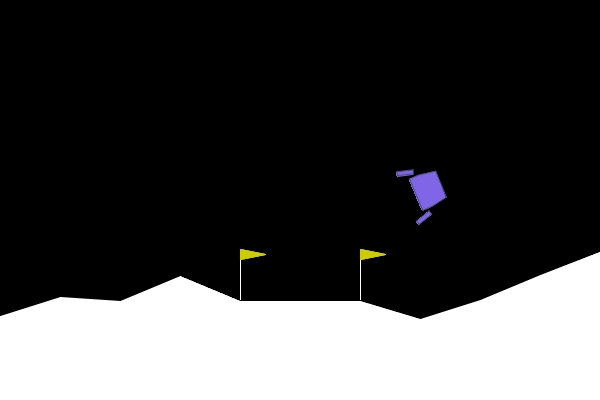lander: (394, 156, 454, 227)
